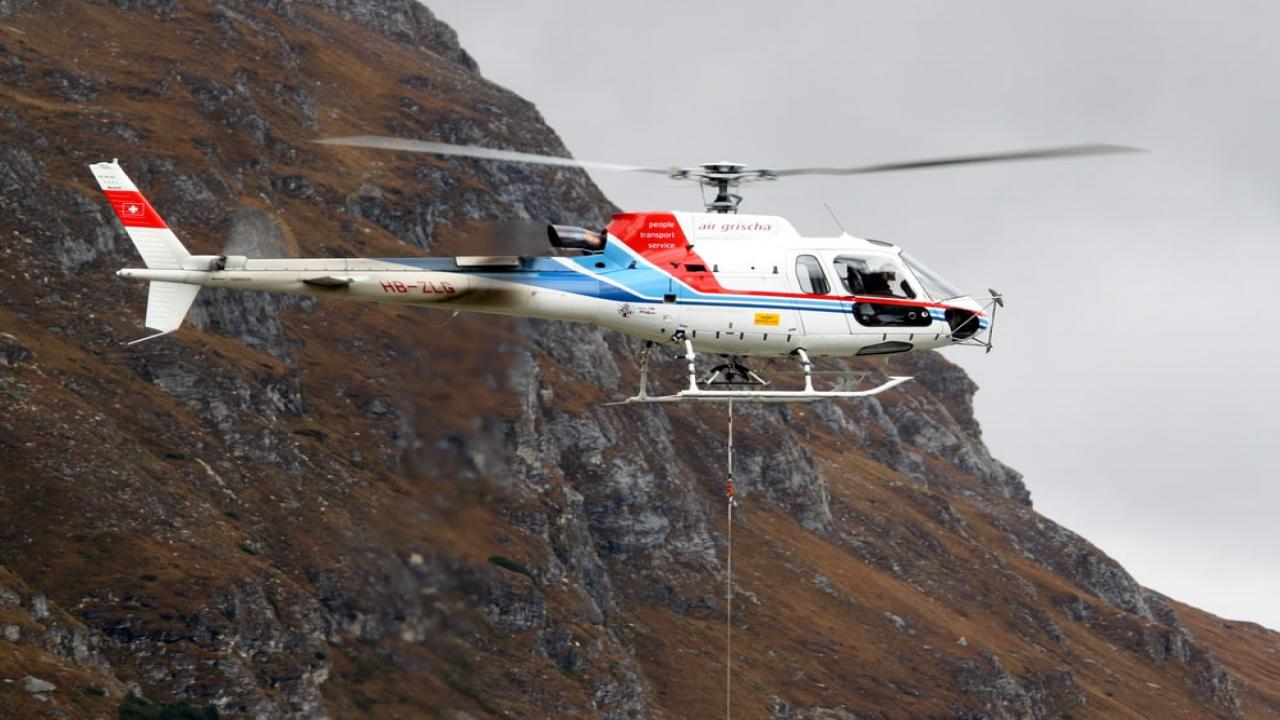Helicopter: (72, 120, 1170, 418)
